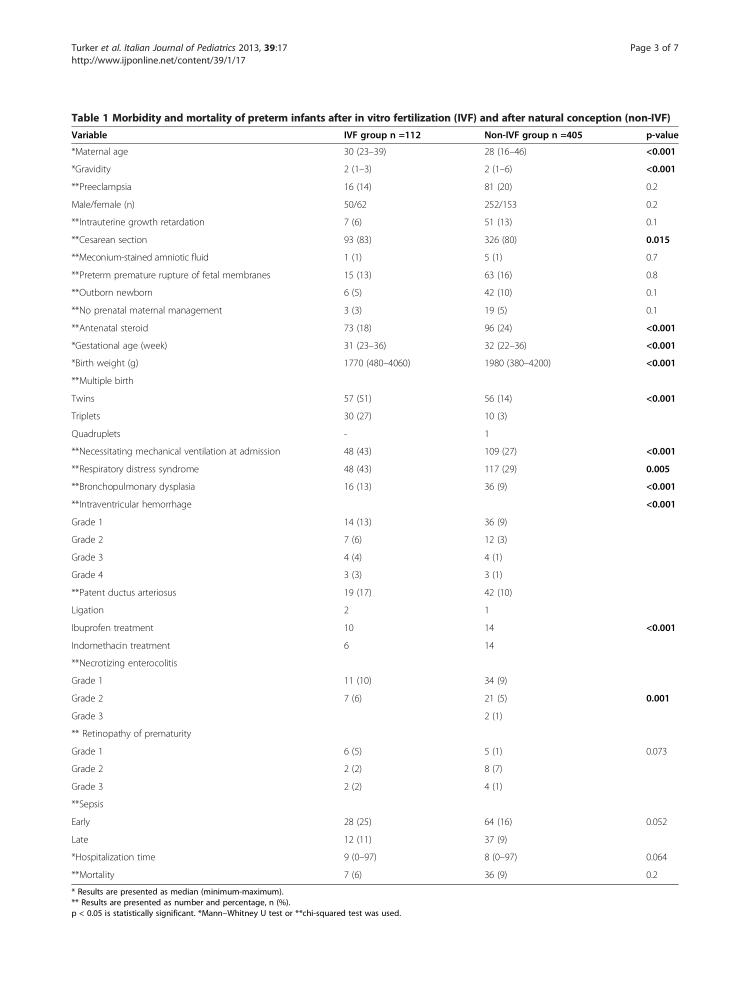table: (71, 129, 678, 880)
